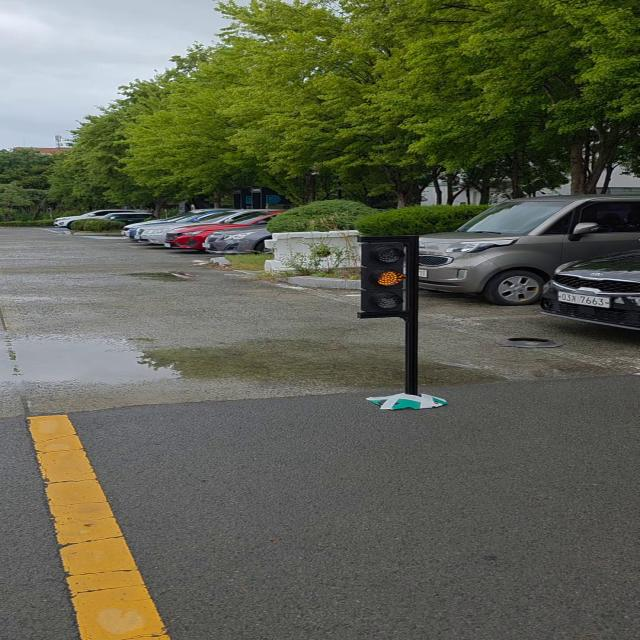yellow: (362, 236, 414, 321)
